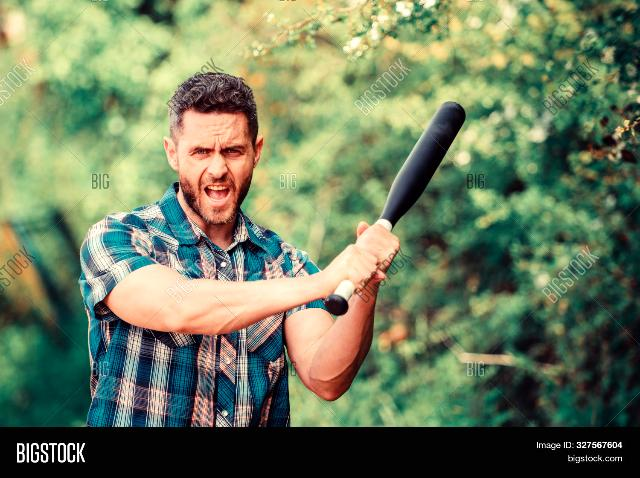baseball bat: (326, 97, 469, 319)
